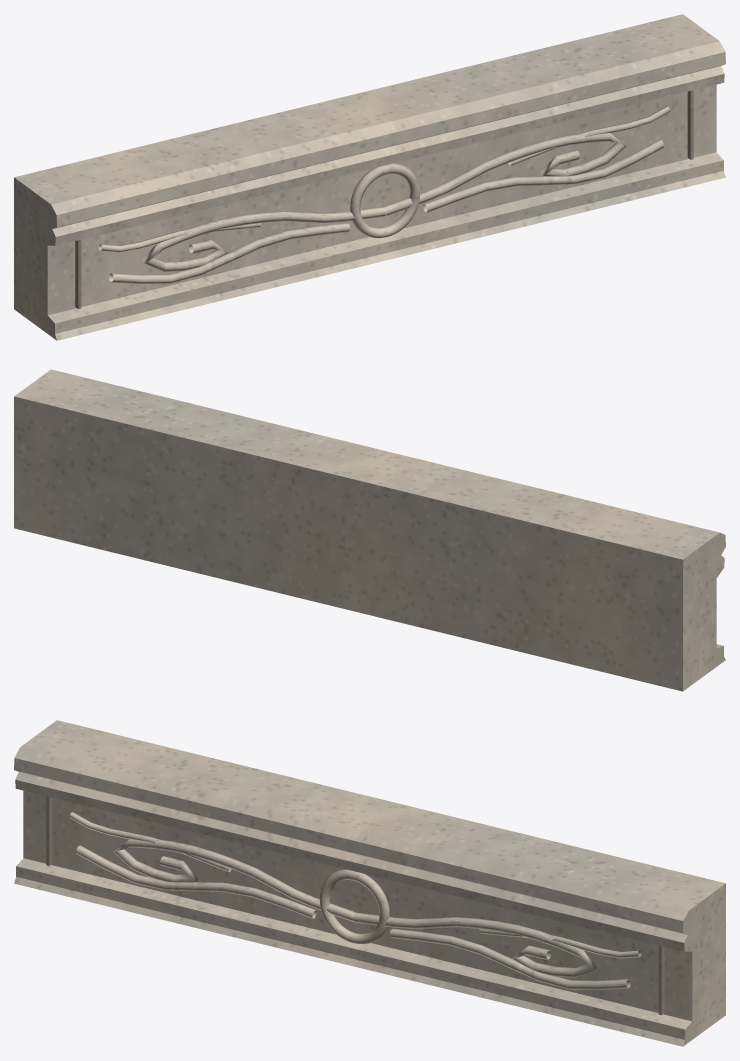
3 views of the same model, one above another, from view 1: azimuth 30°, elevation 25°; view 2: azimuth 150°, elevation 25°; view 3: azimuth 330°, elevation 25° (orthographic).
Parts seen in each view (by area): view 1: RepeatableCornice_stonePale, CloudFrieze_stonePale, CloudFrieze_carving; view 2: RepeatableCornice_stonePale; view 3: RepeatableCornice_stonePale, CloudFrieze_stonePale, CloudFrieze_carving.
Part boxes in pixels (x1=…): RepeatableCornice_stonePale: x1=14, y1=14, x2=725, y2=340; CloudFrieze_stonePale: x1=98, y1=106, x2=670, y2=283; CloudFrieze_carving: x1=75, y1=90, x2=693, y2=309; RepeatableCornice_stonePale: x1=14, y1=369, x2=725, y2=691; RepeatableCornice_stonePale: x1=14, y1=720, x2=725, y2=1046; CloudFrieze_stonePale: x1=69, y1=812, x2=641, y2=989; CloudFrieze_carving: x1=46, y1=796, x2=664, y2=1015.
Bounding box in the file's own units: 2.6 × 0.49 × 0.29.
2 materials, 2 textured.
